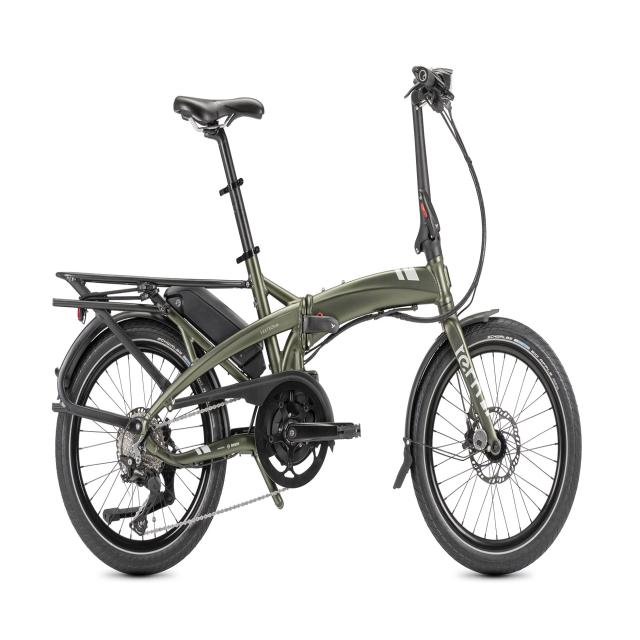folding-bike: (49, 65, 582, 577)
